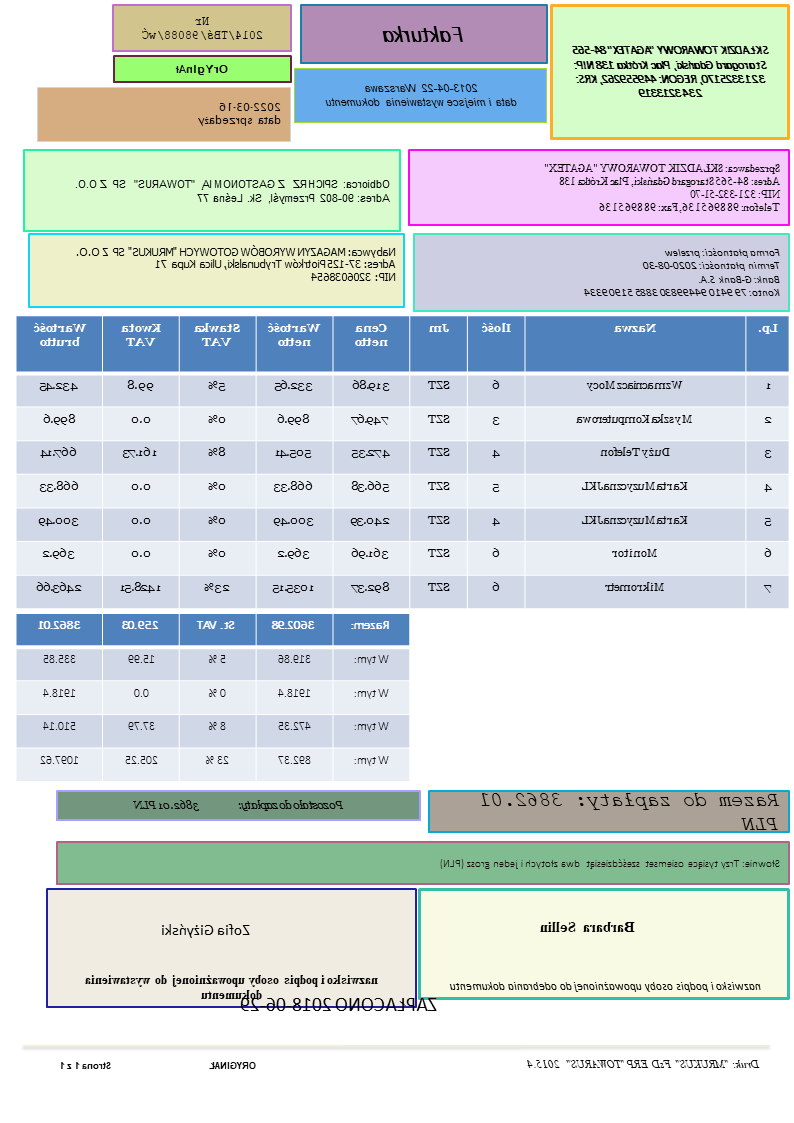Table: (16, 315, 791, 609), (16, 612, 411, 781)
TextBox: (544, 160, 784, 215), (77, 244, 399, 284), (571, 41, 773, 102), (480, 792, 781, 832), (581, 244, 783, 301), (71, 176, 392, 206), (83, 973, 381, 1001), (323, 80, 520, 110), (449, 978, 764, 995), (438, 857, 782, 871), (239, 996, 440, 1015), (139, 13, 266, 42), (524, 1056, 761, 1071), (129, 797, 347, 813), (58, 1058, 258, 1072), (195, 99, 284, 129), (381, 24, 467, 45), (159, 922, 253, 939), (540, 919, 637, 935), (172, 61, 231, 77)
